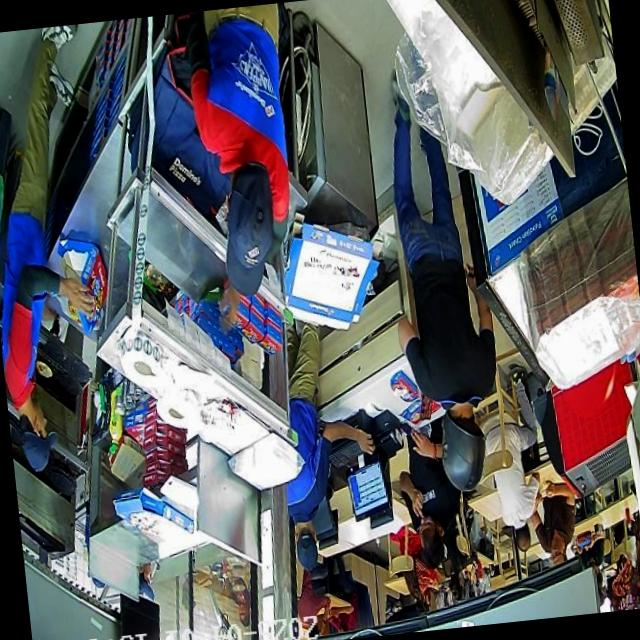helmet: (442, 406, 485, 491)
no_helmet: (224, 160, 275, 297), (18, 396, 58, 471), (419, 515, 445, 567), (296, 523, 318, 569)
